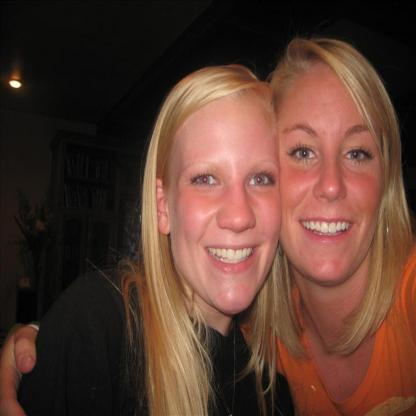face: (169, 102, 282, 313), (278, 70, 385, 274)
